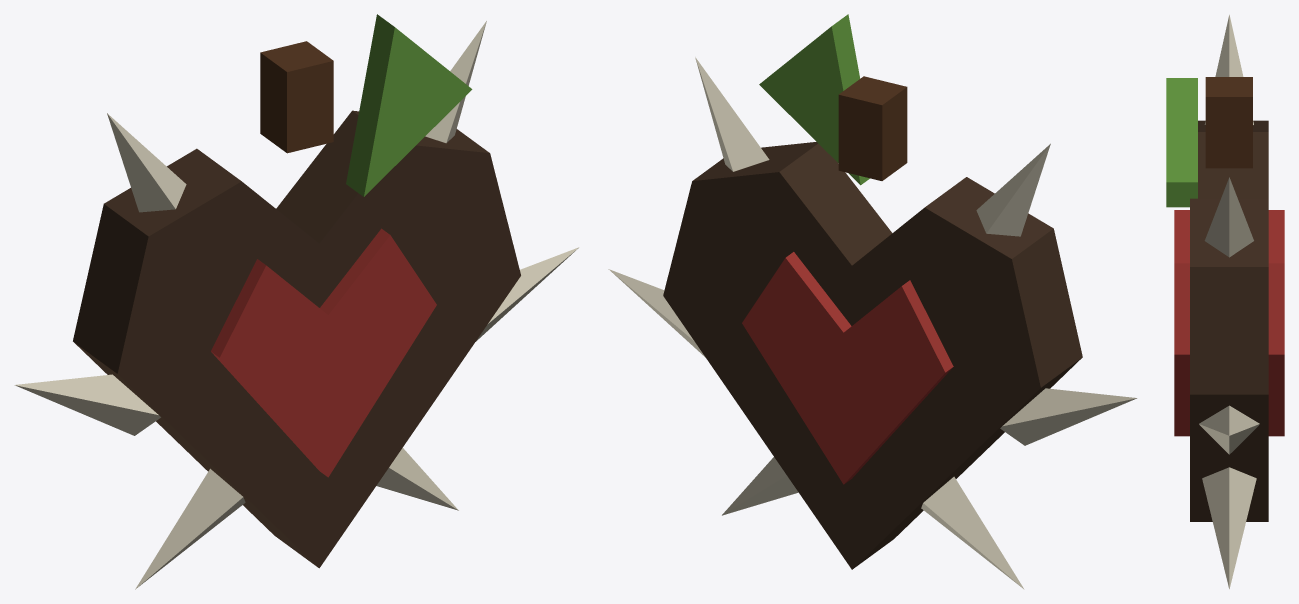
File: briarheart_charm.glb
The picture shows the model from 3 angles, left to right: view 1: azimuth 30°, elevation 25°; view 2: azimuth 150°, elevation 25°; view 3: azimuth 270°, elevation 25°; orthographic projection. The views are drawn at different scales.
Visible parts, largest first — view 1: briarheart_charm; view 2: briarheart_charm; view 3: briarheart_charm.
Part boxes in pixels (x1,y1,x2,y2): briarheart_charm: (14, 14, 579, 589); briarheart_charm: (608, 14, 1137, 589); briarheart_charm: (1166, 14, 1284, 589).
Size of the model in its own units: 0.3646 by 0.33 by 0.075.
